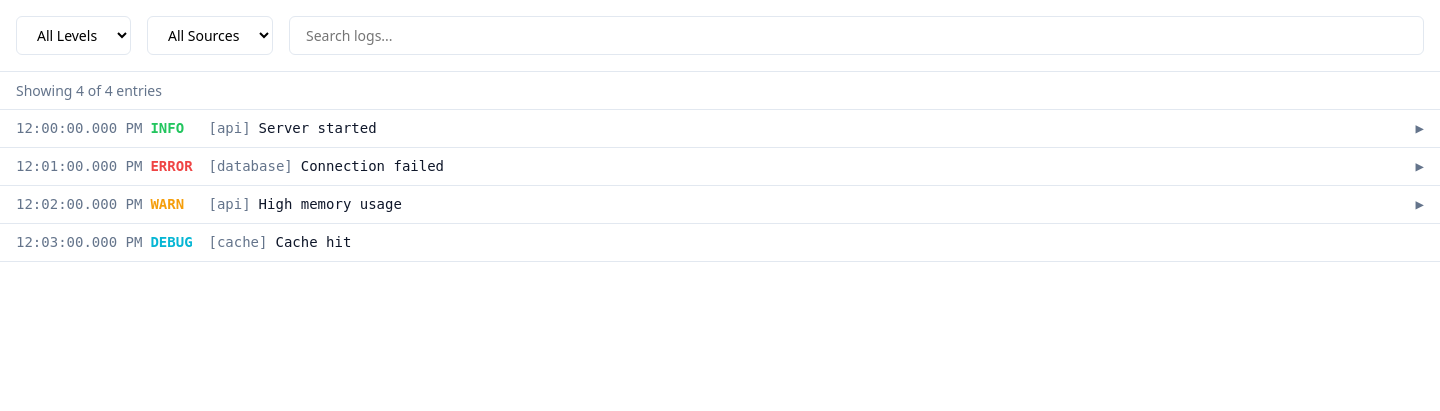
Test: LogViewer › displays error details when expanded
This screenshot has width=1440, height=411.
Click the button "Connection failed" at (79, 166), box [0,148,1439,186]
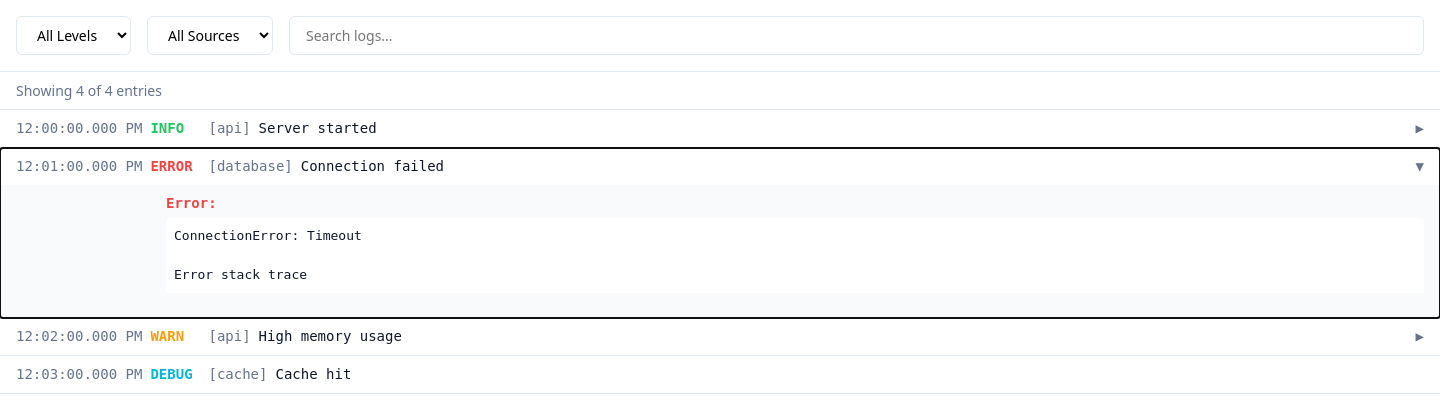
Result: the text "Error:" is shown at [166,195,217,211]
Result: the text "ConnectionError: Timeout Error stack trace" is shown at [166,218,1424,292]
